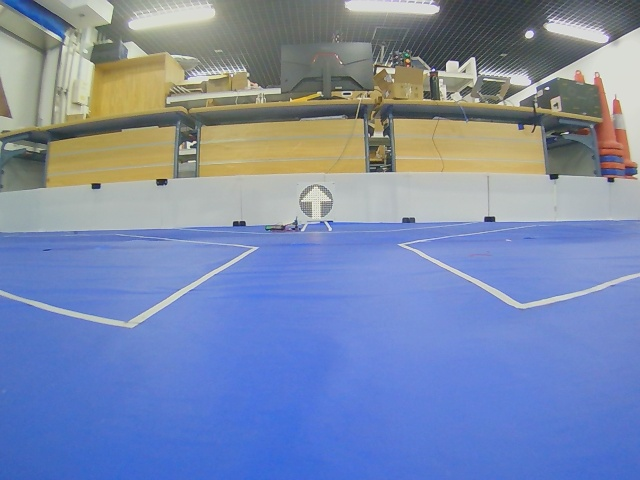straight_yellow: (300, 184, 333, 220)
